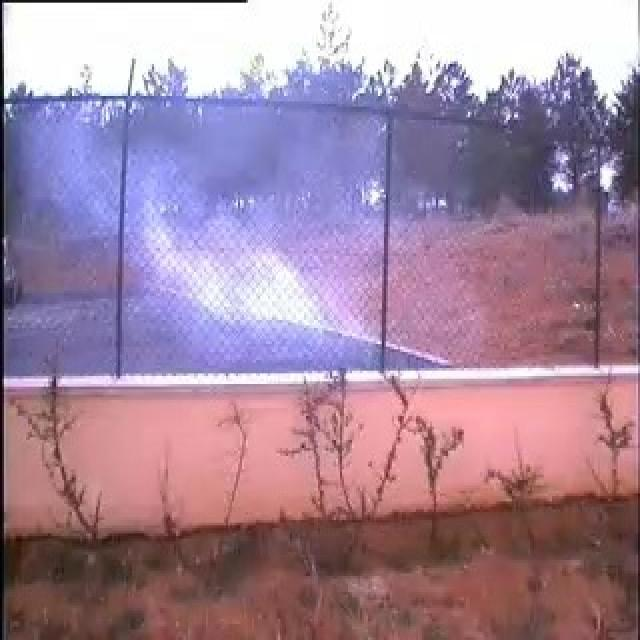smoke: (123, 115, 389, 379)
